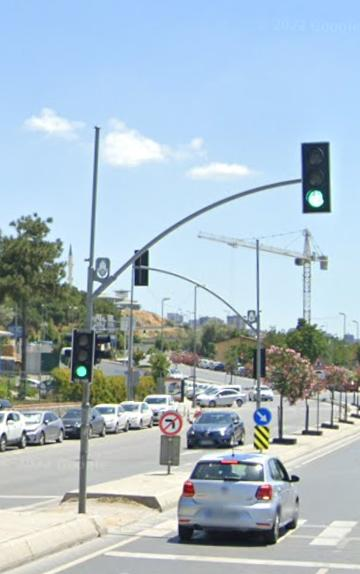greenlight: (301, 142, 330, 217), (73, 328, 95, 381)
leftturnsareforbidden: (158, 411, 182, 436)
